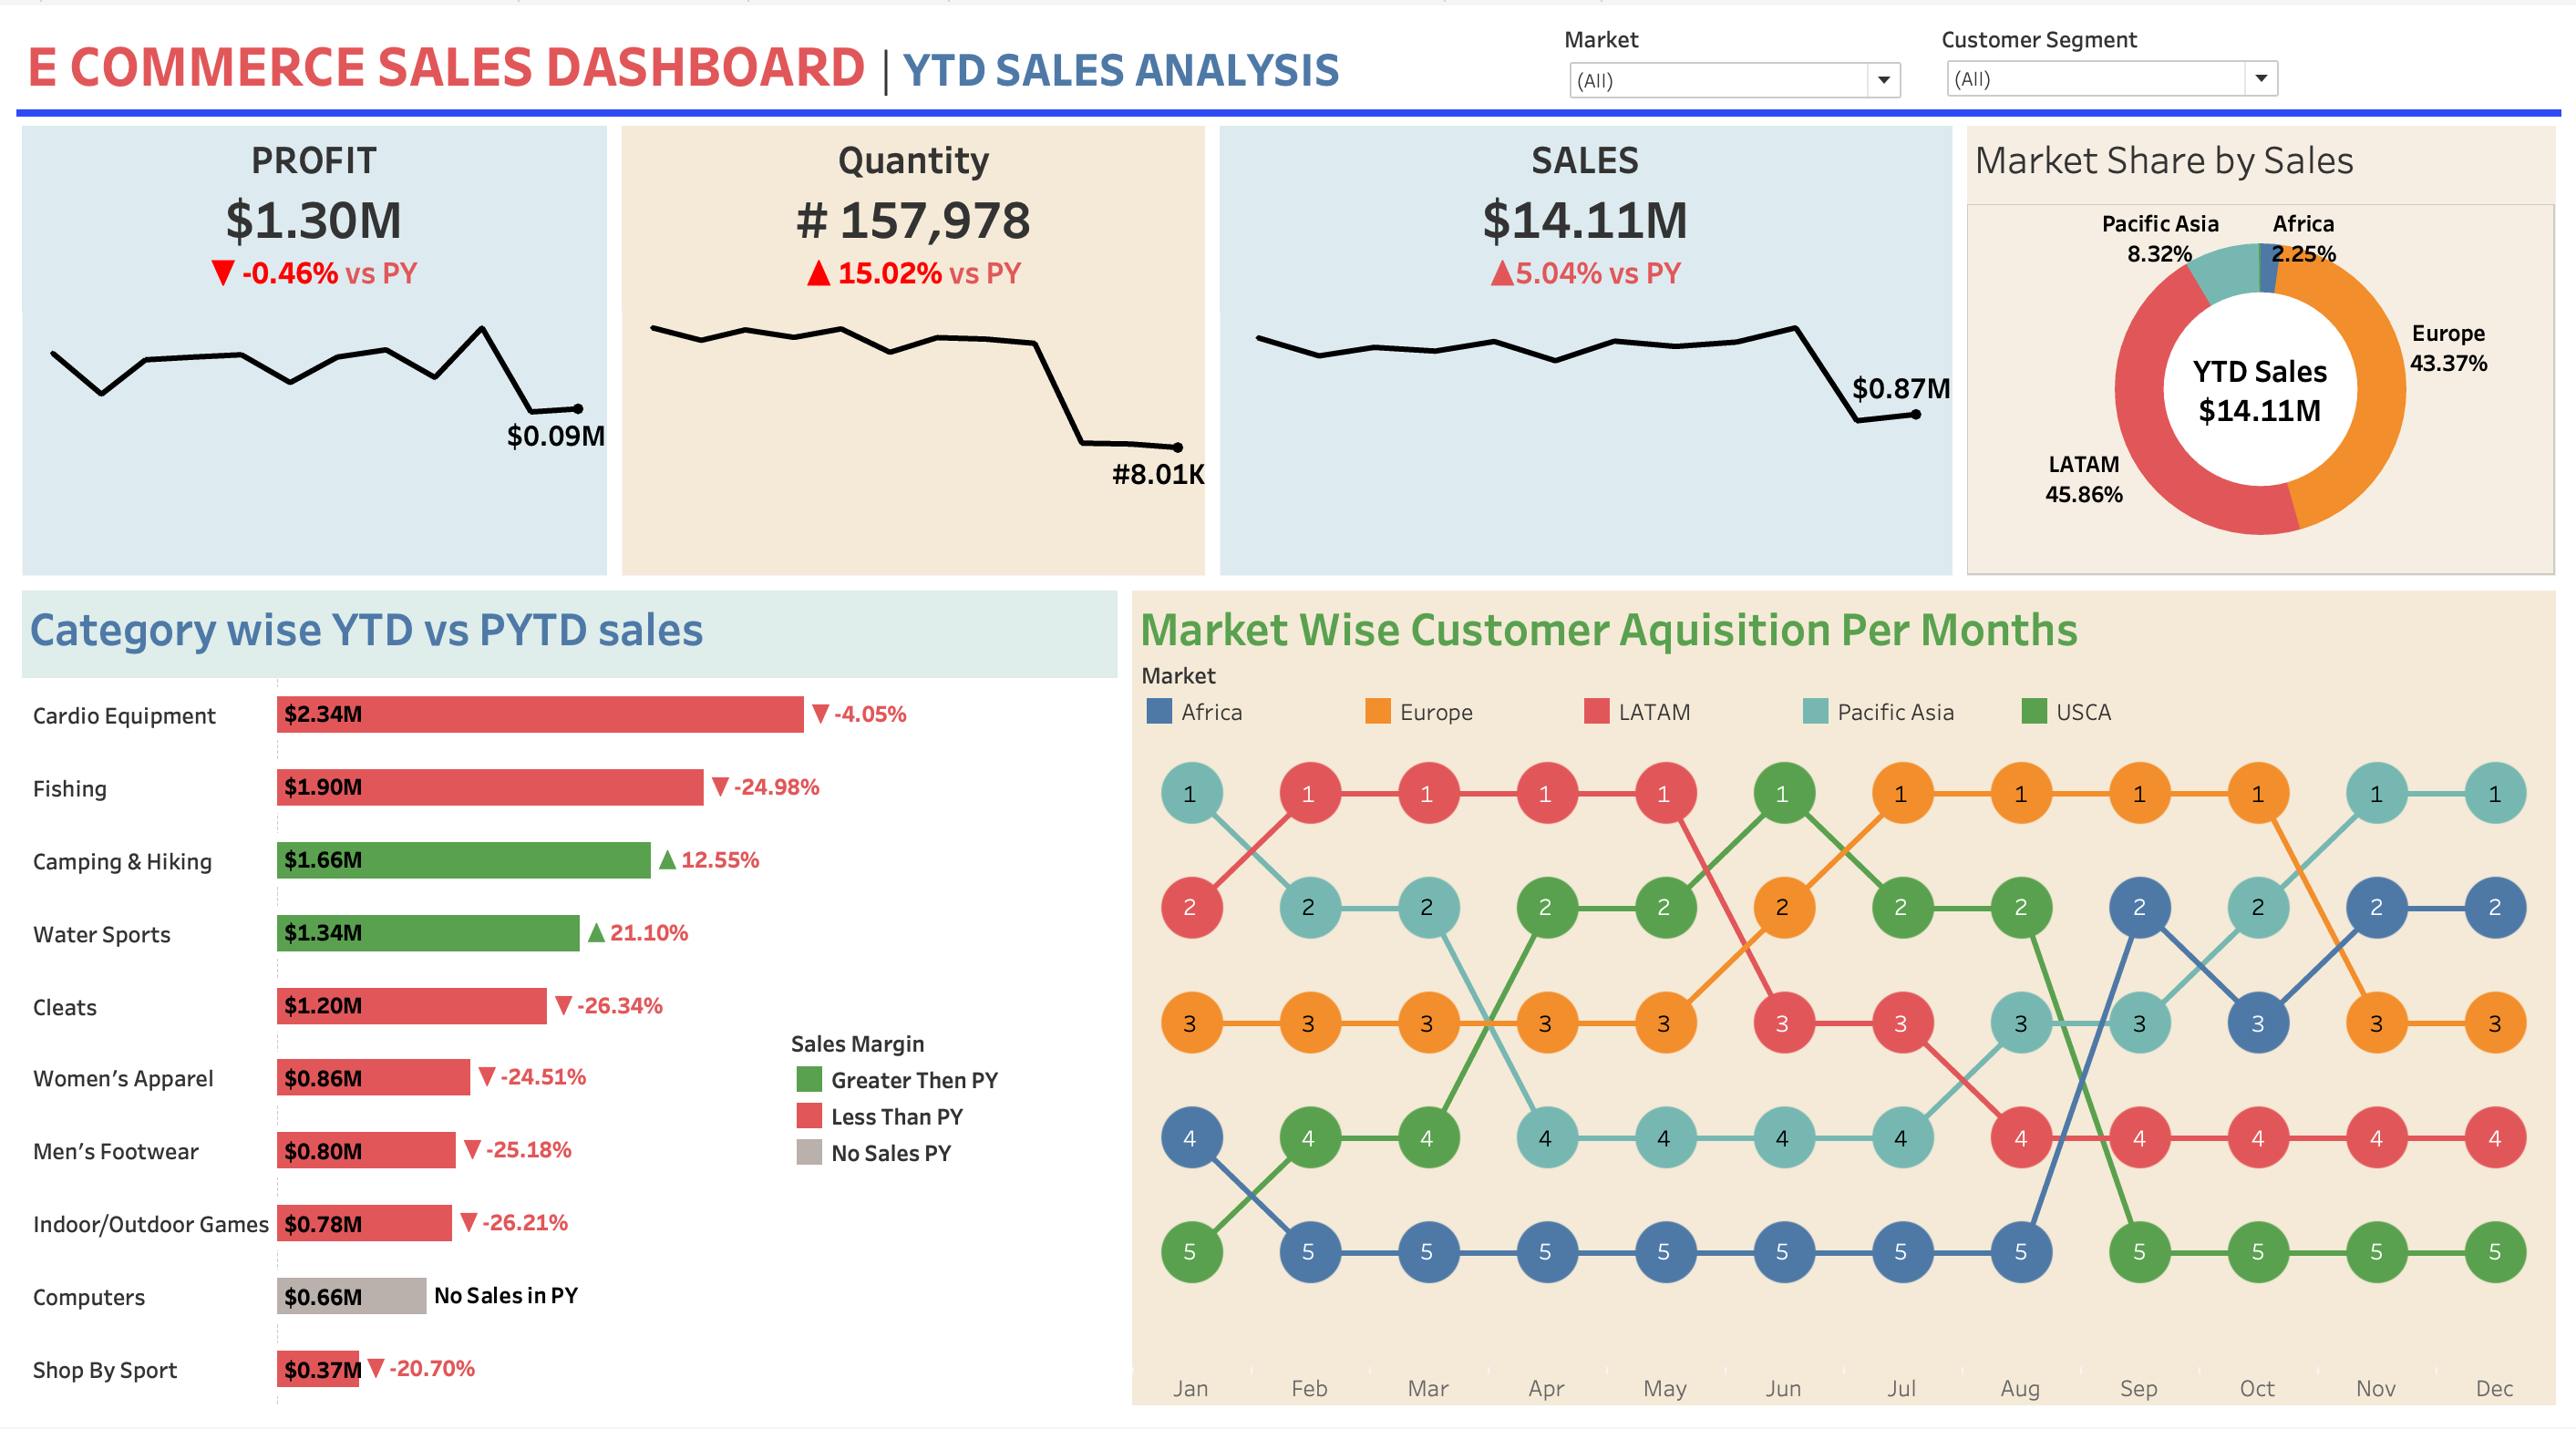

The dashboard page shown, as its layout file describes it:
{"tool":"tableau","page":{"name":"Dashboard 1","canvas":[1000,1000],"units":"permille","ordinal":0},"visuals":[{"type":"title","box":[6.3,9.9,987.3,59.4]},{"type":"filter","title":"Profit KPI ","param":"[federated.0jghscn19dzgy61ehag9m0g4wq6x].[none:Market:nk]","box":[606.7,12.4,133.2,56.9]},{"type":"filter","title":"Profit KPI ","param":"[federated.0jghscn19dzgy61ehag9m0g4wq6x].[none:Customer Segment:nk]","box":[753.4,12.4,133.2,53.2]},{"type":"blank","box":[6.3,69.3,987.3,7.4]},{"type":"worksheet","title":"Profit KPI ","mark":"Line","rows":["Profit Per Order"],"cols":["Order Date"],"box":[6.3,76.7,220.2,329.2]},{"type":"worksheet","title":"Quantity KPI","mark":"Line","rows":["Order Quantity"],"cols":["Order Date"],"box":[226.5,76.7,220.2,329.2]},{"type":"worksheet","title":"Sales KPI","mark":"Line","rows":["Sales"],"cols":["Order Date"],"box":[446.7,76.7,325.1,329.2]},{"type":"worksheet","title":"Market Share by Sales","mark":"Pie","cols":["Calculation_2228367036104400911","Calculation_2228367036104429585"],"box":[771.9,76.7,221.8,329.2]},{"type":"worksheet","title":"Category wise YTD vs PYTD sales","mark":"Bar","rows":["Category Name"],"cols":["Calculation_2228367036104548370","Calculation_2228367036104548370"],"box":[6.3,405.9,429.8,584.2]},{"type":"worksheet","title":"Market Wise Customer Aquisition Per Months","mark":"Automatic","cols":["Order Date"],"box":[436.1,405.9,557.5,584.2]},{"type":"legend","title":"Market Wise Customer Aquisition Per Months","param":"[federated.0jghscn19dzgy61ehag9m0g4wq6x].[none:Market:nk]","box":[442.5,460.4,529.7,55.7]},{"type":"legend","title":"Category wise YTD vs PYTD sales","param":"[federated.0jghscn19dzgy61ehag9m0g4wq6x].[usr:Calculation_2447565675073290242:nk","box":[306.9,719.1,111,96.5]}]}

Visuals, with their boxes on the dashboard's canvas, which has no fixed pixel size, in thousandths of its width and height (x1, y1, x2, y2). These are canvas units, not pixel positions in the 2576x1429 screenshot, which may show the page scaled, cropped or inside an application window:
title: {"left": 6, "top": 10, "right": 994, "bottom": 69}
"Profit KPI " filter: {"left": 607, "top": 12, "right": 740, "bottom": 69}
"Profit KPI " filter: {"left": 753, "top": 12, "right": 887, "bottom": 66}
blank: {"left": 6, "top": 69, "right": 994, "bottom": 77}
"Profit KPI " worksheet (Line marks): {"left": 6, "top": 77, "right": 226, "bottom": 406}
"Quantity KPI" worksheet (Line marks): {"left": 226, "top": 77, "right": 447, "bottom": 406}
"Sales KPI" worksheet (Line marks): {"left": 447, "top": 77, "right": 772, "bottom": 406}
"Market Share by Sales" worksheet (Pie marks): {"left": 772, "top": 77, "right": 994, "bottom": 406}
"Category wise YTD vs PYTD sales" worksheet (Bar marks): {"left": 6, "top": 406, "right": 436, "bottom": 990}
"Market Wise Customer Aquisition Per Months" worksheet: {"left": 436, "top": 406, "right": 994, "bottom": 990}
"Market Wise Customer Aquisition Per Months" legend: {"left": 442, "top": 460, "right": 972, "bottom": 516}
"Category wise YTD vs PYTD sales" legend: {"left": 307, "top": 719, "right": 418, "bottom": 816}
